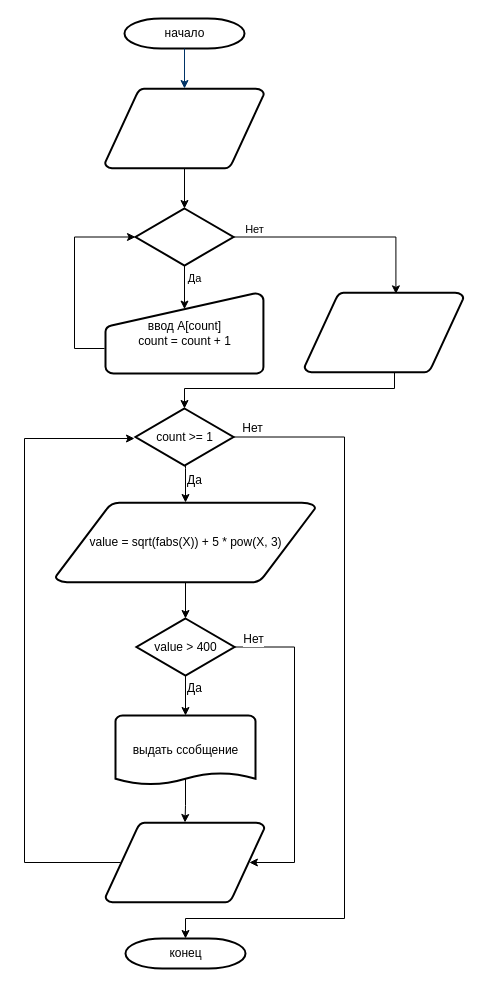
Image size: 482x986. Some labels were removed from this diagram. The centre of each missing label's shape, as x and y in pixels:
"count <= 11" goes at point 184,236.
"count = 11" goes at point 383,332.
"count = count - 1" goes at point 184,862.
"массив A[11] count = 1" goes at point 184,128.
